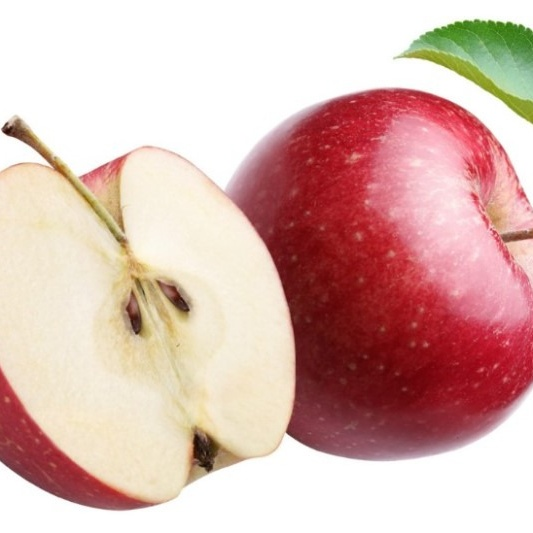apple: (225, 82, 533, 473), (1, 144, 299, 515)
